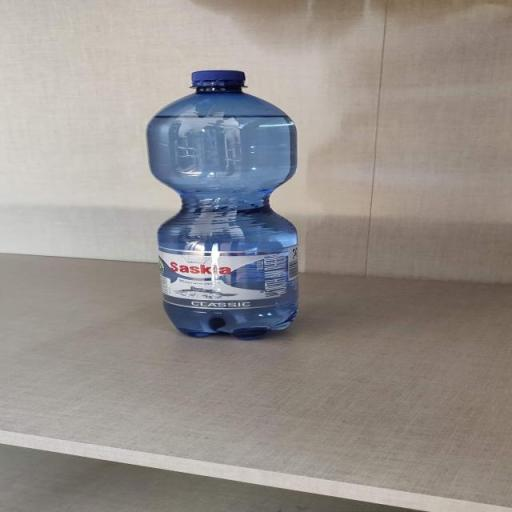plastic: (142, 66, 304, 342)
